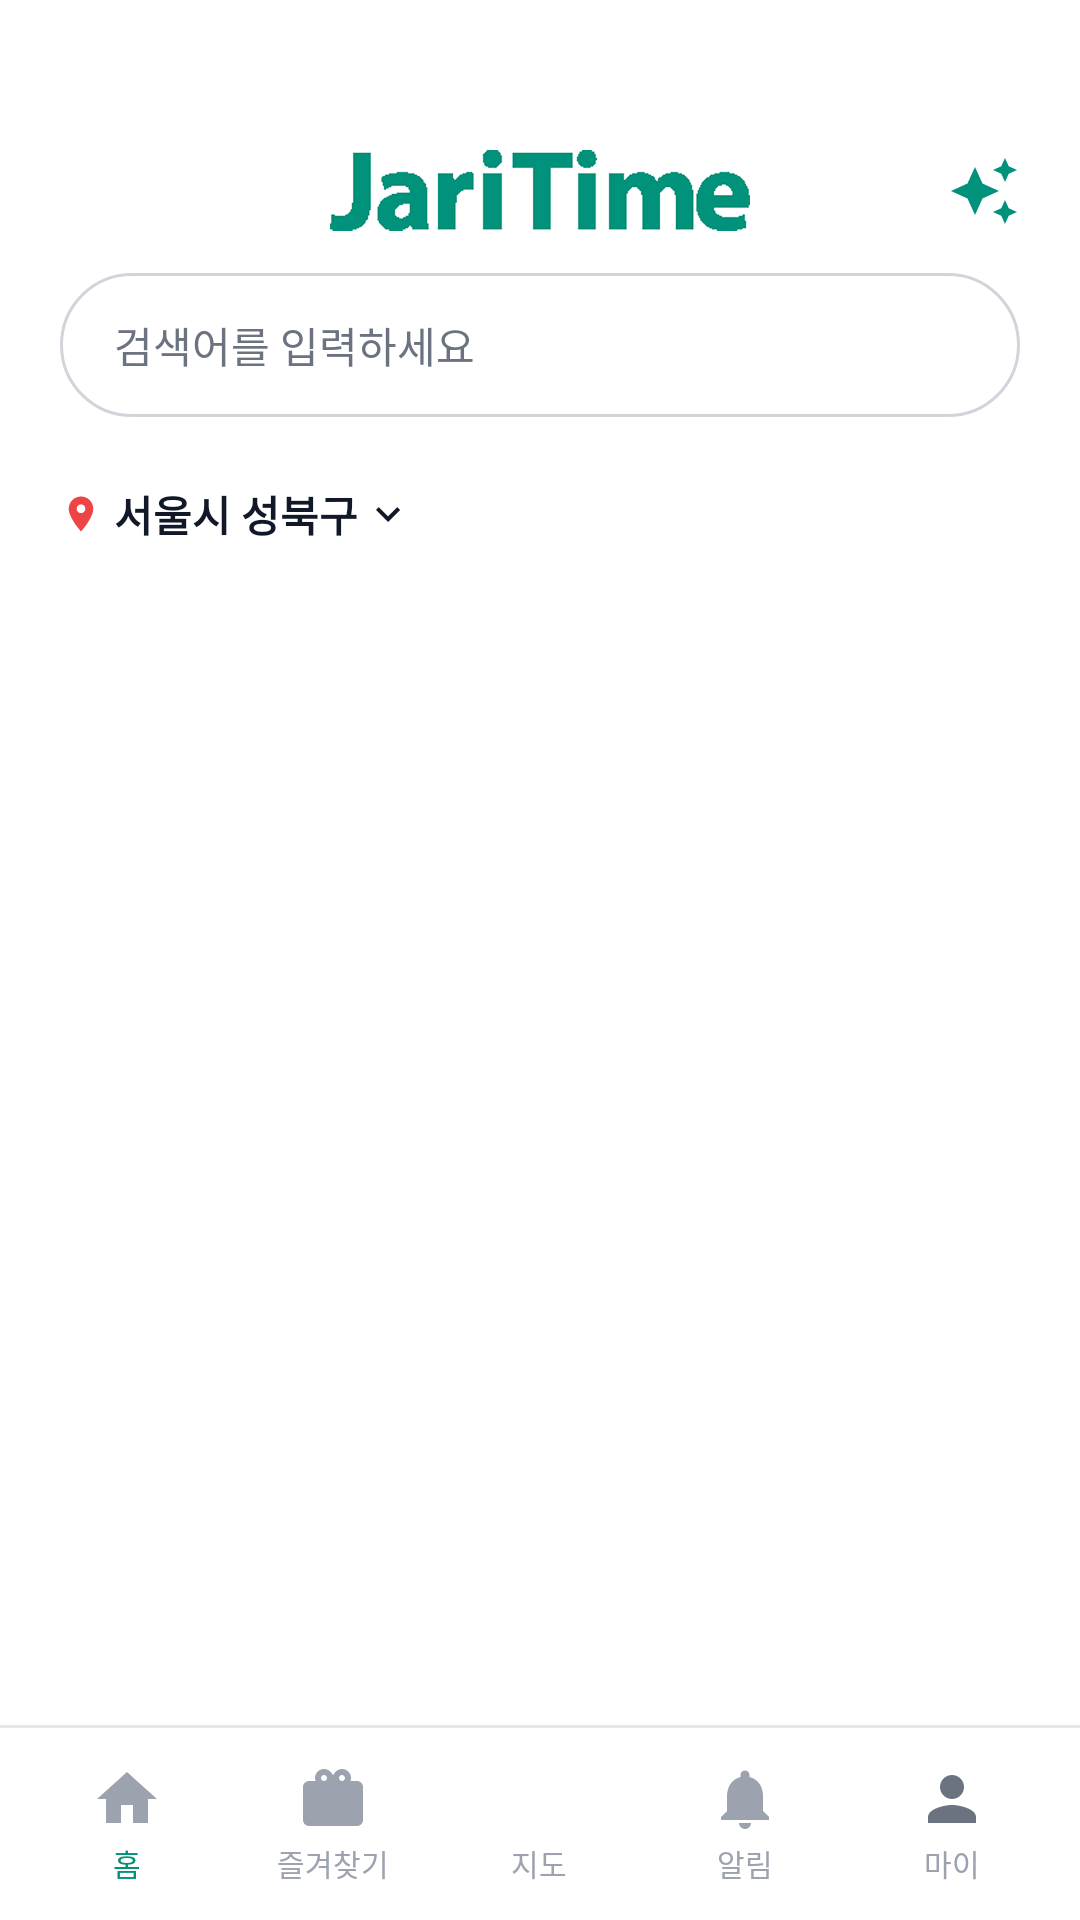

Where icons sit on this 1080px x 1920px app screen, as BBox(x1, y1, x2, y2):
chevron down: BBox(376, 507, 400, 522)
location pin: BBox(68, 496, 94, 531)
